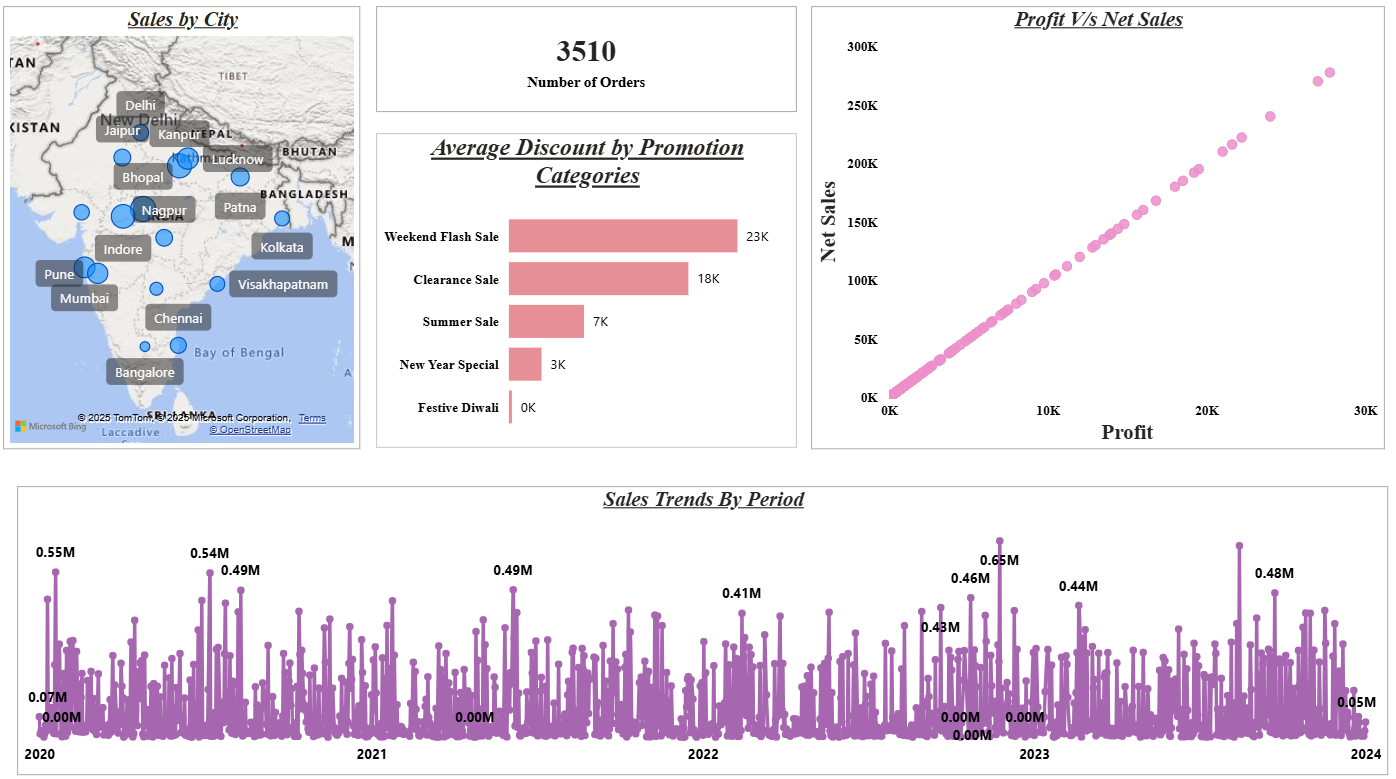

Layout of this report page (visuals, bound fields, positions):
{"tool":"powerbi","page":{"name":"Overview","canvas":[1280,720],"ordinal":0},"visuals":[{"type":"lineChart","title":"Sales Trends By Period","fields":{"Y":["Sum(Fact Table.Net Sales  )"],"Category":["Fact Table.Date (dd/mm/yyyy).Variation.Date Hierarchy.Year"]},"box":[25.7,447.6,1227.7,259.2],"z":0},{"type":"scatterChart","title":"Profit V/s Net Sales  ","fields":{"X":["Fact Table.Profit"],"Y":["Fact Table.Net Sales  "]},"box":[737.4,18.3,513.6,397.4],"z":1000},{"type":"barChart","title":"Average Discount by Promotion Categories","fields":{"Y":["Avg(Fact Table.Discount)"],"Category":["Dim Promotion.Promotion Name"]},"box":[347.3,132.1,376.6,282.5],"z":2000},{"type":"map","title":"Sales  by City","fields":{"Category":["Dim Customers.City"],"Size":["Sum(Fact Table.Net Sales  )"]},"box":[13.5,18.3,320.4,397.4],"z":3000},{"type":"card","fields":{"Values":["Count(Fact Table.Order ID)"]},"box":[347.3,18.3,376.6,95.4],"z":4000}]}

Visuals, with their boxes in screenshot pixels (x1, y1, x2, y2), scaled from the page's 1280x720 canvas onto the 1396x779 screenshot:
"Sales Trends By Period" lineChart: x1=28 y1=484 x2=1367 y2=765
"Profit V/s Net Sales  " scatterChart: x1=804 y1=20 x2=1364 y2=450
"Average Discount by Promotion Categories" barChart: x1=379 y1=143 x2=790 y2=449
"Sales  by City" map: x1=15 y1=20 x2=364 y2=450
card - Count(Fact Table.Order ID): x1=379 y1=20 x2=790 y2=123
